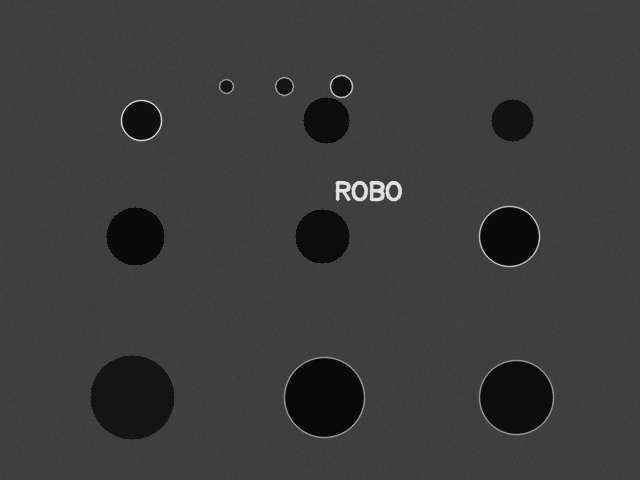hole: (90, 355, 174, 439), (284, 357, 364, 437), (479, 360, 553, 434), (479, 206, 539, 266), (106, 207, 164, 265), (295, 209, 349, 263), (303, 97, 349, 143), (491, 99, 533, 141), (121, 100, 161, 140), (330, 75, 352, 97), (275, 77, 293, 95), (219, 79, 233, 93)
